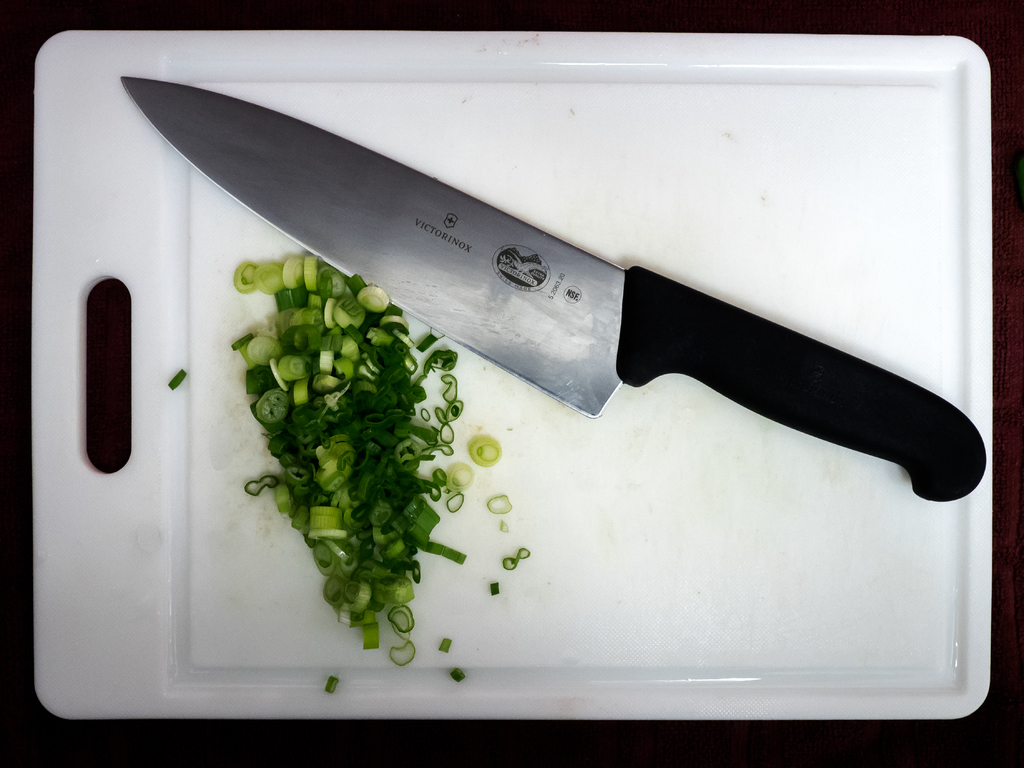knife: (120, 75, 986, 501)
